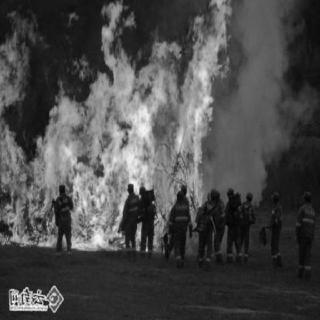Fire: (2, 0, 236, 252)
Smoke: (235, 1, 303, 189)
